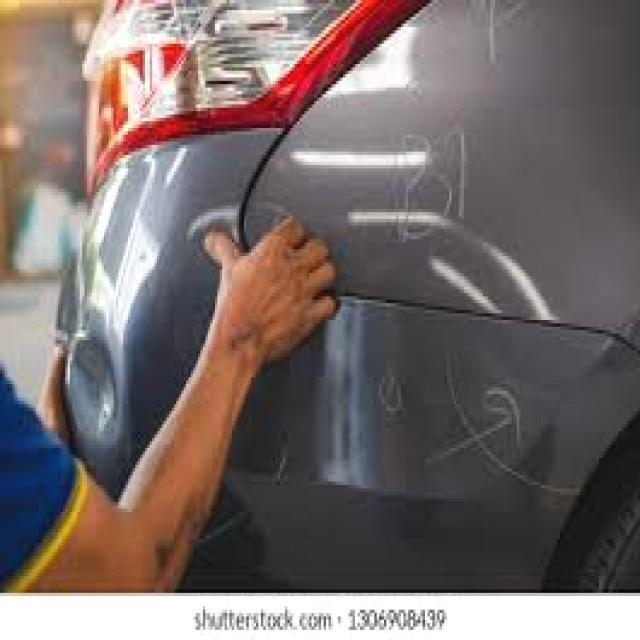minor: (62, 312, 128, 453)
